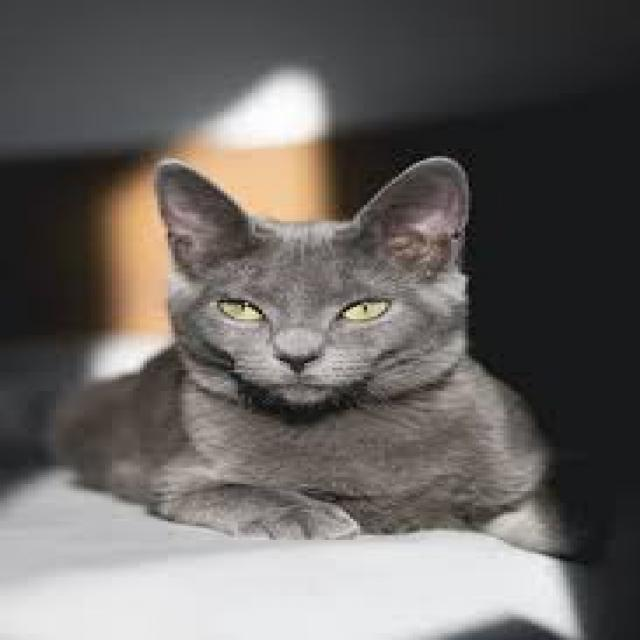Cat: (36, 150, 602, 562)
